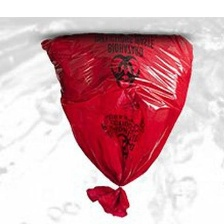plastic_bag: (34, 25, 201, 220)
